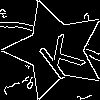K: (30, 25, 87, 82)
